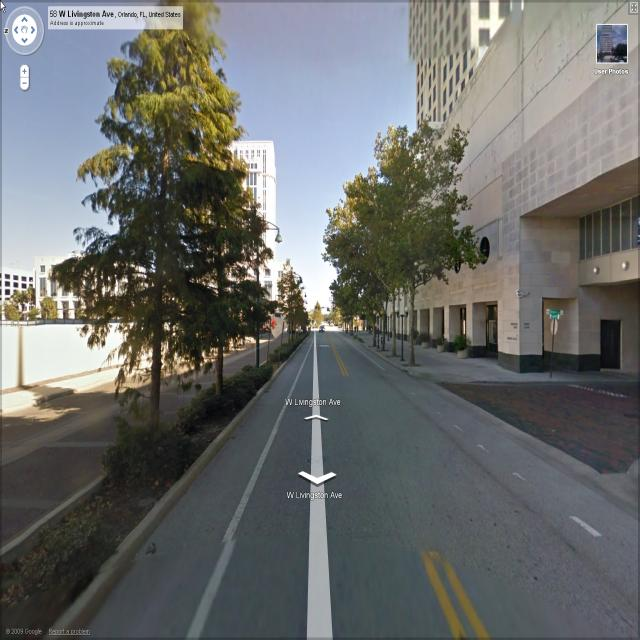b_2: (356, 1, 634, 371), (196, 127, 282, 352), (36, 250, 190, 320), (0, 261, 44, 331)
